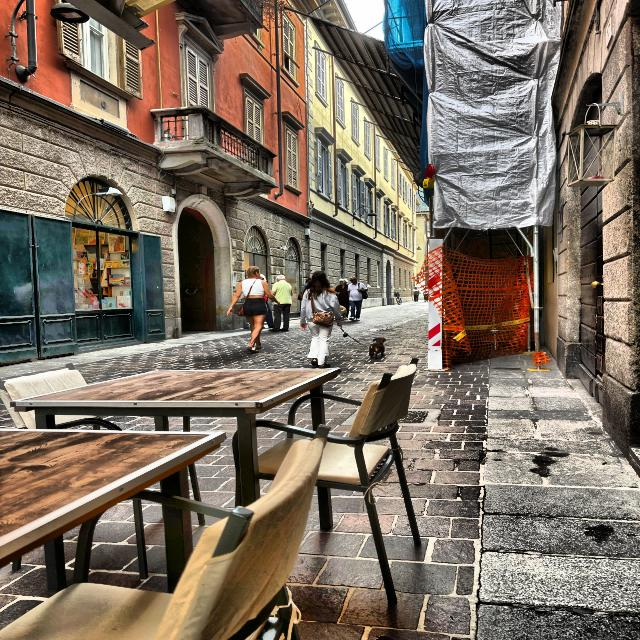cadeira: (292, 354, 429, 587)
mesa: (14, 364, 353, 436)
